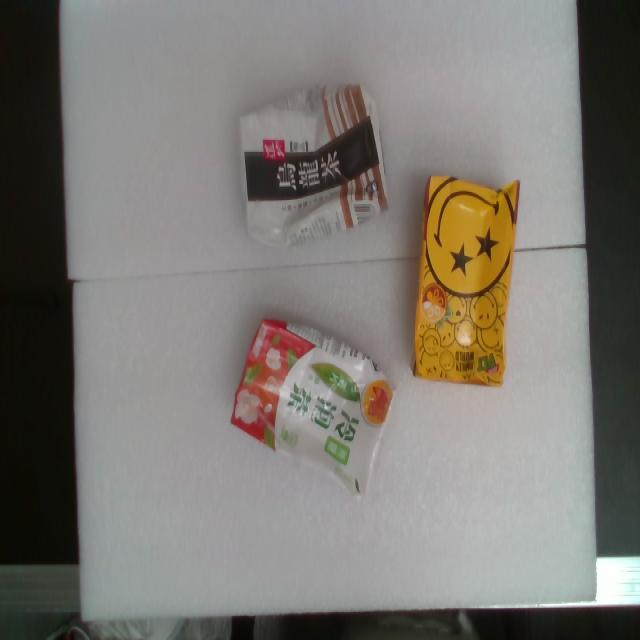juicebox: (191, 299, 438, 518), (215, 63, 411, 279), (401, 153, 530, 399)
